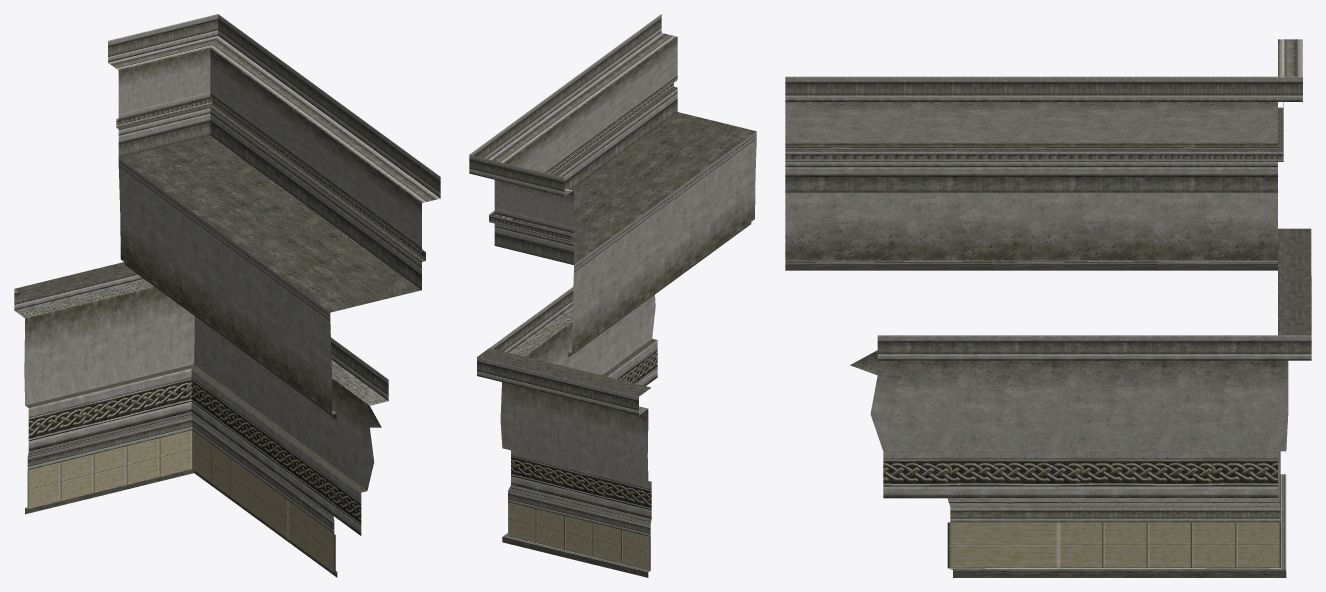
The model's file is DWARF_PALACE_FORGE_WALL01A01.fbx.
The picture shows the model from 3 angles, left to right: view 1: azimuth 30°, elevation 25°; view 2: azimuth 150°, elevation 25°; view 3: azimuth 270°, elevation 25°; orthographic projection. The views are drawn at different scales.
Visible parts, largest first — view 1: DWARF_PALACE_FORGE_WALL01A01; view 2: DWARF_PALACE_FORGE_WALL01A01; view 3: DWARF_PALACE_FORGE_WALL01A01.
Part boxes in pixels (<box>): DWARF_PALACE_FORGE_WALL01A01: <box>14,14,440,577</box>; DWARF_PALACE_FORGE_WALL01A01: <box>469,14,756,577</box>; DWARF_PALACE_FORGE_WALL01A01: <box>785,39,1311,577</box>.
Size of the model in its own units: 96254 by 205000 by 188277.
Materials: 8 (8 with a texture image).
